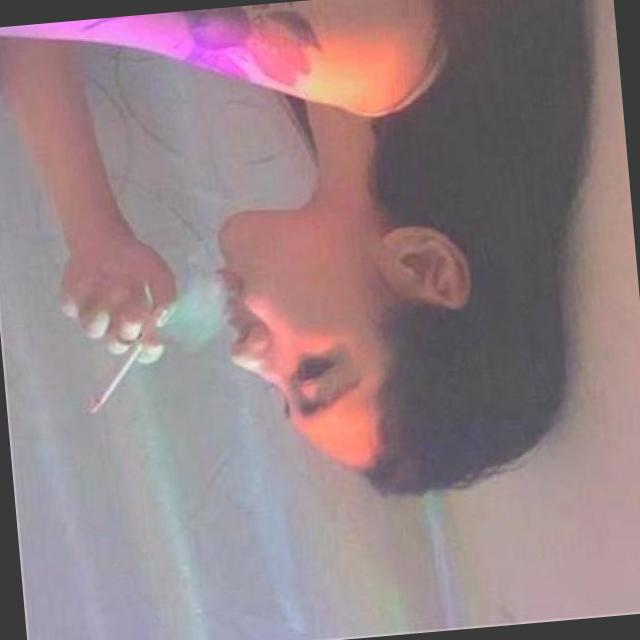cigarette: (72, 300, 178, 424)
